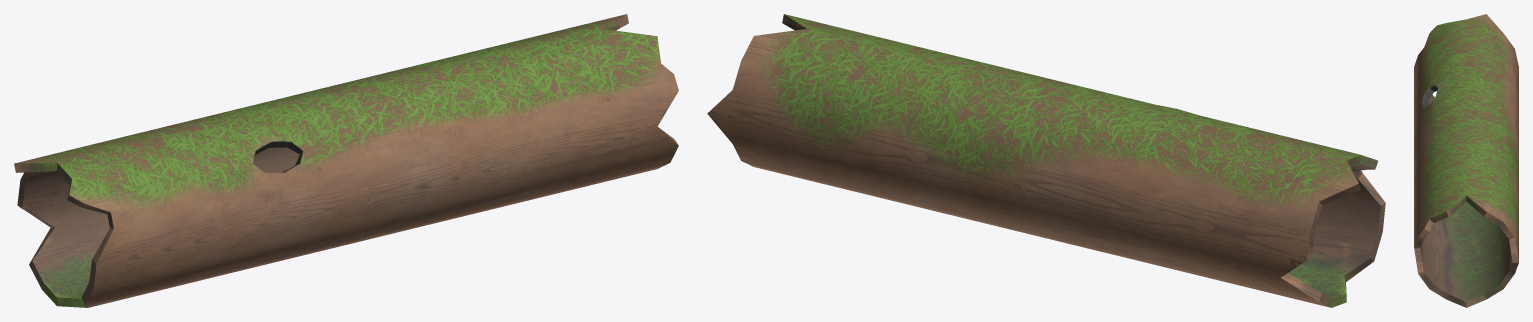
Rendered from tronco.fbx.
3 renders of one model, left to right at view 1: azimuth 30°, elevation 25°; view 2: azimuth 150°, elevation 25°; view 3: azimuth 270°, elevation 25°, orthographic. The views are drawn at different scales.
Visible parts, largest first — view 1: tronco; view 2: tronco; view 3: tronco.
Boxes of the visible parts, x1=… form: tronco: x1=14, y1=14, x2=678, y2=307; tronco: x1=707, y1=14, x2=1385, y2=307; tronco: x1=1414, y1=14, x2=1518, y2=307.
Bounding box in the file's own units: 1985 × 429 × 429.
